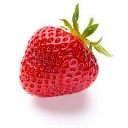strawberry: (16, 15, 102, 98)
